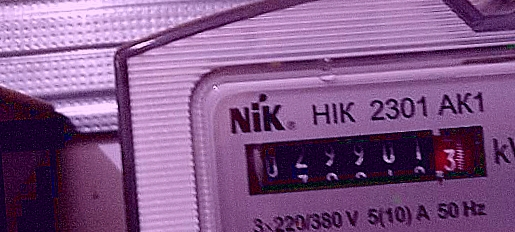0: (378, 135, 397, 165), (260, 150, 280, 178)
1: (409, 132, 424, 161)
2: (290, 142, 310, 170)
3: (439, 144, 458, 172)
9: (320, 139, 338, 168), (351, 138, 366, 166)
screen: (234, 113, 498, 205)
